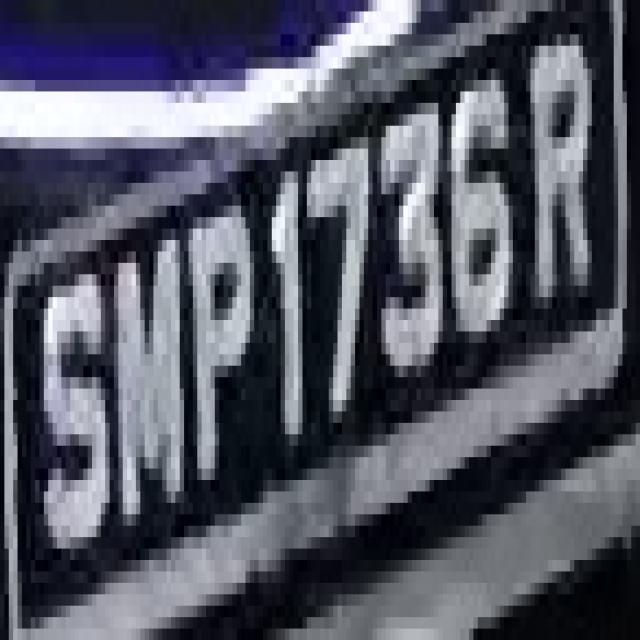1: (254, 160, 316, 503)
3: (377, 80, 451, 400)
6: (452, 69, 518, 377)
7: (294, 103, 372, 457)
M: (109, 217, 193, 549)
P: (175, 160, 259, 526)
R: (530, 0, 605, 377)
S: (30, 240, 110, 583)
